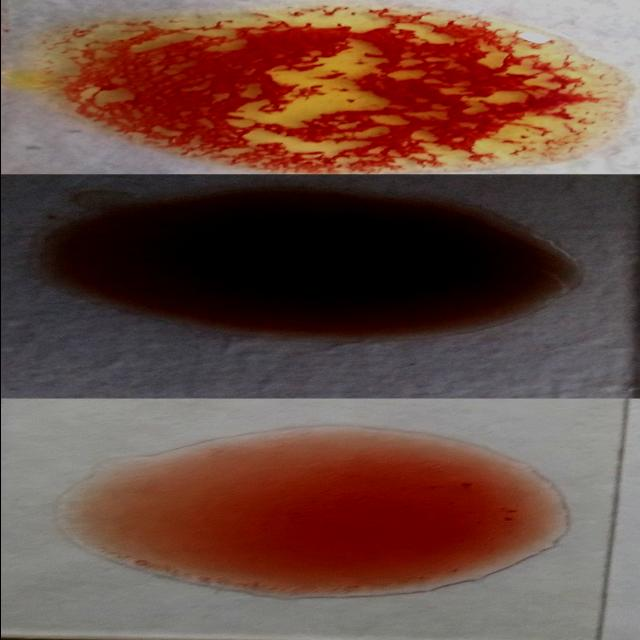B: (38, 9, 632, 170)
